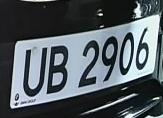0: (118, 28, 135, 76)
2: (78, 36, 100, 92)
6: (134, 22, 150, 74)
9: (100, 34, 118, 81)
B: (47, 40, 70, 98)
U: (20, 44, 46, 103)
